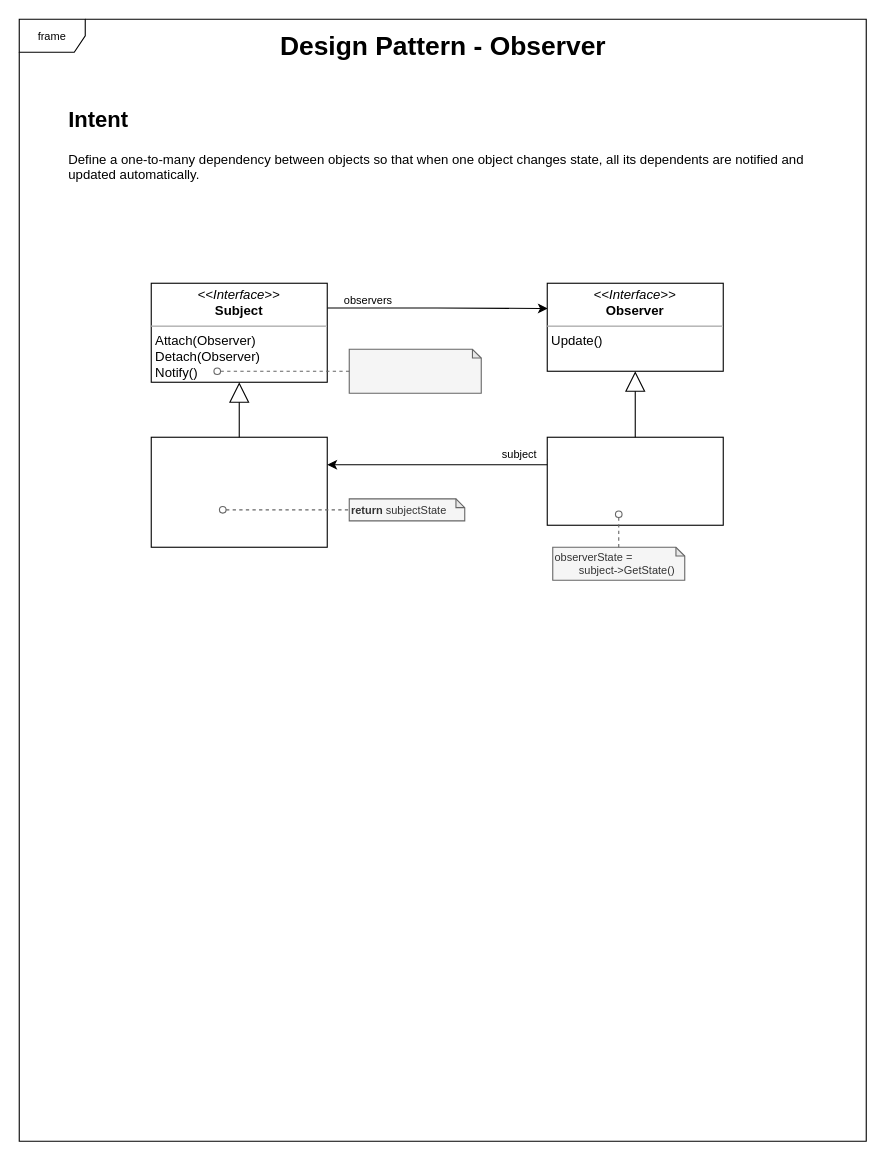
Image size: 886x1161. Some labels were removed from this diagram. Here are the shapes that lost their labels. From the top down, the centre of each, then its label:
At (x=414, y=370): "for all o in observers { o->Update() }".
At (x=238, y=491): "ConcreteSubject subjectState GetState() SetState(state)".
At (x=634, y=480): "ConcreteObserver observerState Update()".
